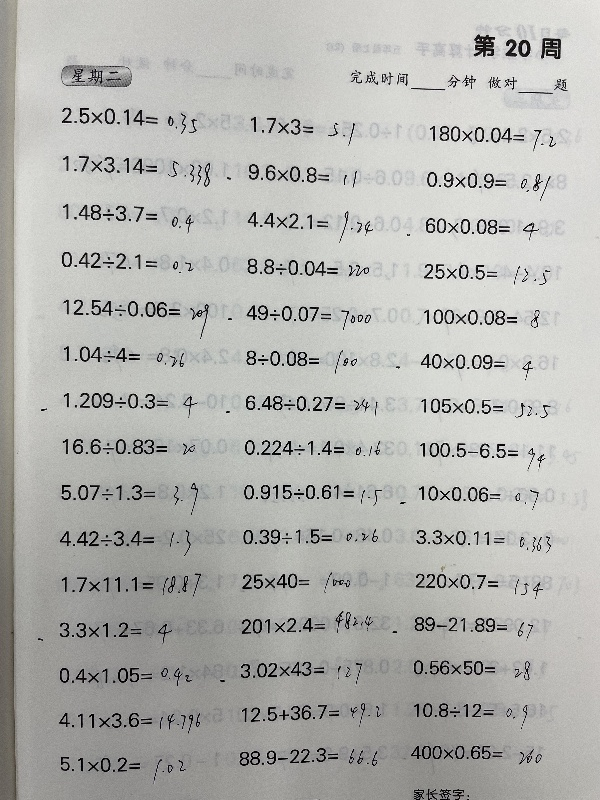equation: (57, 295, 210, 337), (57, 480, 202, 518), (58, 200, 199, 239), (242, 207, 375, 247), (56, 569, 203, 603), (58, 152, 214, 183), (237, 698, 384, 730), (421, 167, 553, 202), (58, 388, 202, 420), (56, 247, 195, 280), (419, 259, 555, 292), (55, 752, 187, 785), (224, 299, 374, 328), (412, 569, 543, 602), (415, 349, 535, 384), (54, 707, 203, 735), (56, 526, 194, 556), (399, 741, 546, 769), (409, 655, 536, 687), (236, 607, 375, 636), (57, 104, 200, 132), (241, 345, 362, 378), (238, 478, 384, 505), (415, 436, 546, 466), (424, 122, 558, 151), (235, 743, 381, 769), (235, 656, 365, 685), (409, 698, 530, 729), (414, 482, 541, 511), (54, 661, 194, 687), (63, 344, 188, 373), (411, 526, 554, 551), (236, 565, 357, 594), (59, 434, 199, 459), (240, 390, 380, 415), (245, 114, 357, 145), (237, 523, 381, 547), (239, 435, 383, 459), (54, 615, 174, 643), (420, 305, 543, 332), (416, 394, 553, 418), (409, 611, 535, 637), (242, 255, 372, 279), (420, 214, 541, 239), (243, 161, 359, 186)
